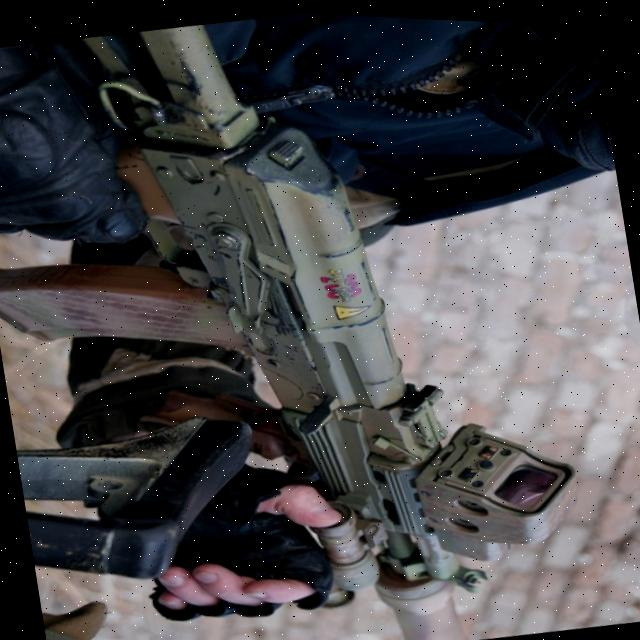firearm: (0, 0, 597, 640)
